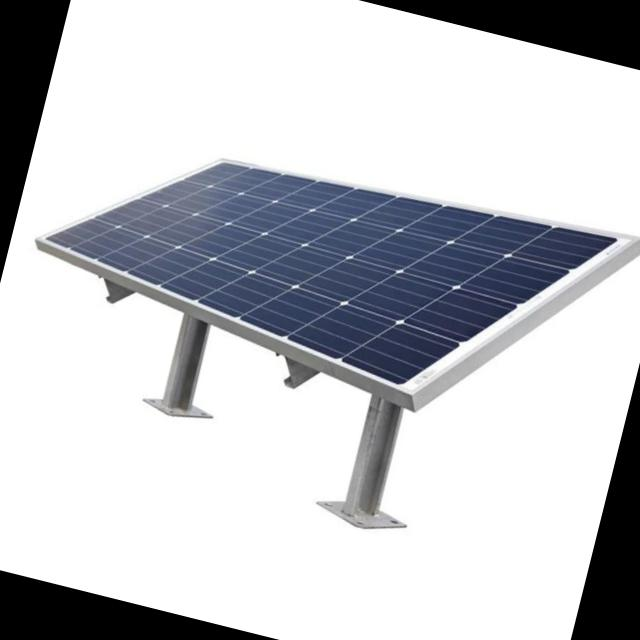no faulty: (52, 163, 622, 388)
